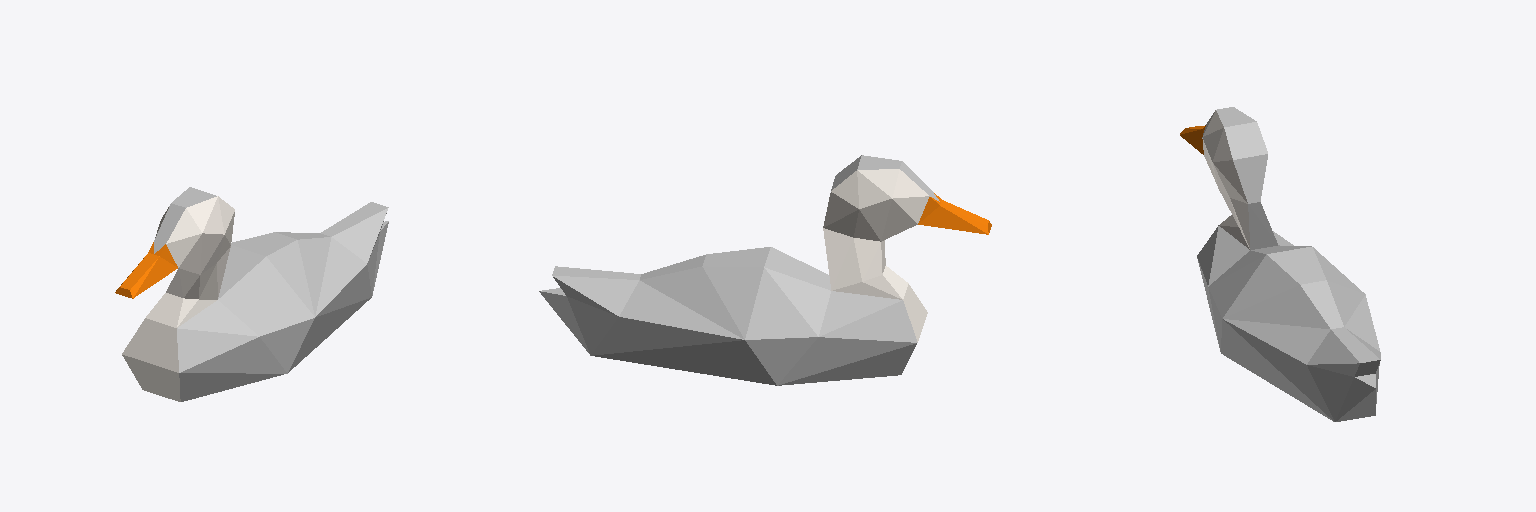
File: pekin.obj
The picture shows the model from 3 angles: view 1: azimuth 30°, elevation 25°; view 2: azimuth 150°, elevation 25°; view 3: azimuth 270°, elevation 25°; orthographic projection.
Parts seen in each view (by area): view 1: Plane; view 2: Plane; view 3: Plane.
Boxes of the visible parts, <box> form: Plane: <box>115,187,388,401</box>; Plane: <box>539,155,991,385</box>; Plane: <box>1180,107,1380,421</box>.
Bounding box in the file's own units: 7.74 × 3.93 × 3.73.